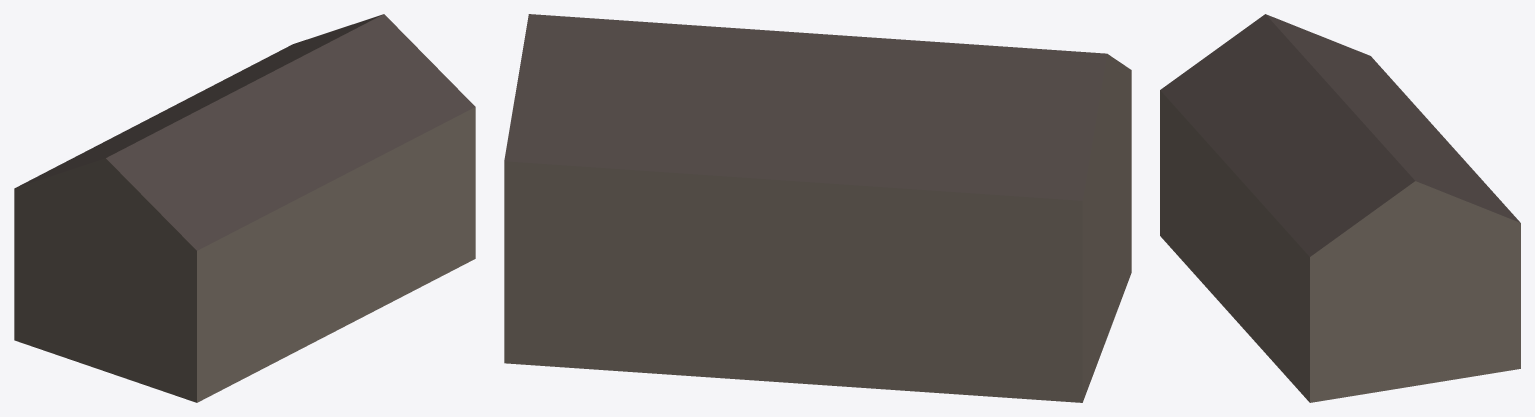
3 renders of one model, left to right at view 1: azimuth 30°, elevation 25°; view 2: azimuth 150°, elevation 25°; view 3: azimuth 270°, elevation 25°, orthographic. The views are drawn at different scales.
Parts seen in each view (by area): view 1: HP-w859078924; view 2: HP-w859078924; view 3: HP-w859078924.
Part boxes in pixels (x1,y1,x2,y2): HP-w859078924: (14, 14, 475, 402); HP-w859078924: (504, 14, 1131, 402); HP-w859078924: (1160, 14, 1520, 402).
Bounding box in the file's own units: 26.62 × 12.65 × 20.18.
